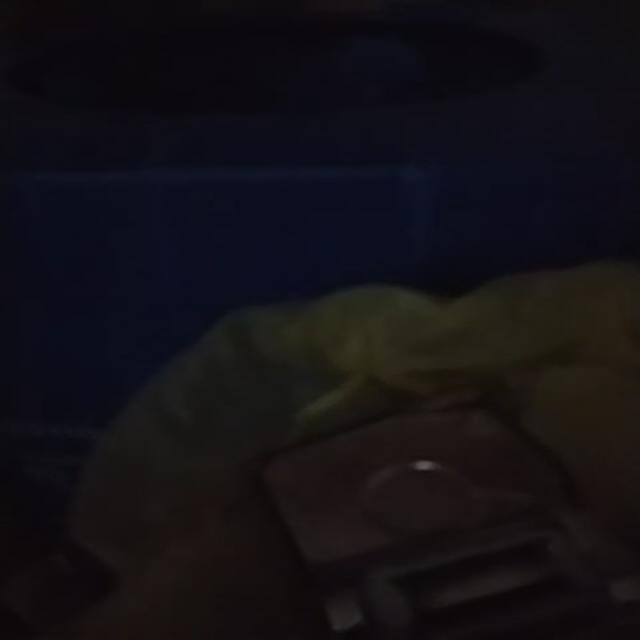bin: (0, 0, 638, 640)
metal: (261, 394, 636, 640)
